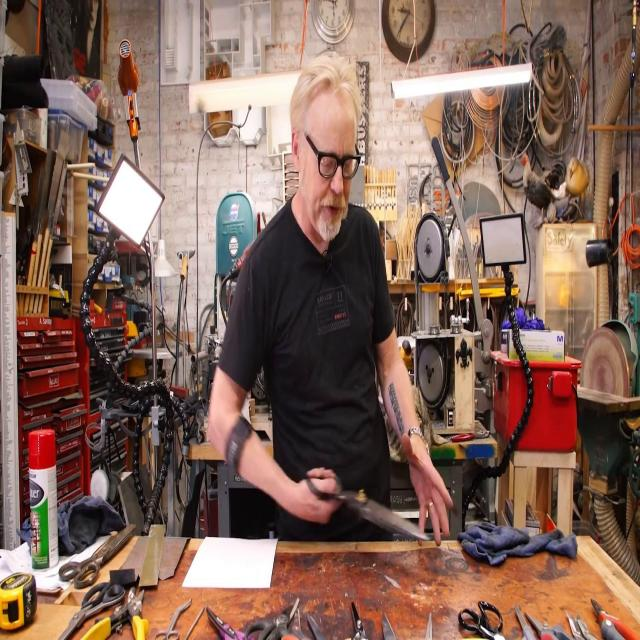scissor: (58, 523, 136, 590), (58, 582, 124, 640), (243, 598, 299, 640), (458, 599, 506, 639), (524, 608, 572, 640), (155, 599, 192, 640)
